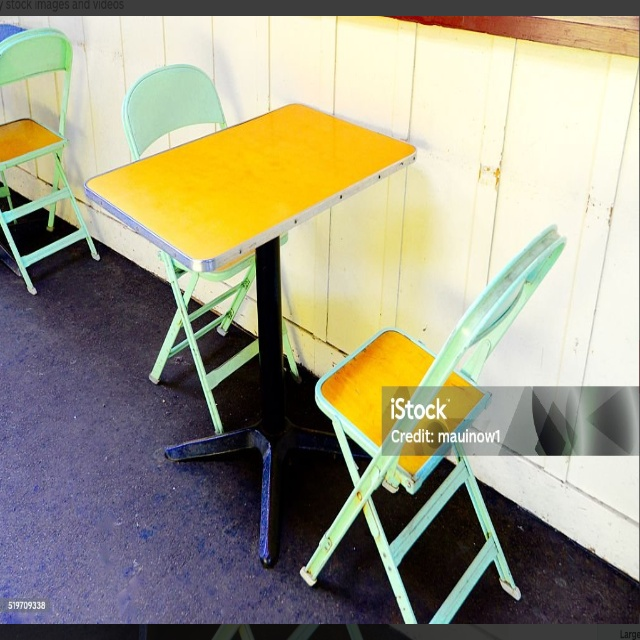obstacle: (82, 99, 412, 566), (293, 221, 566, 620), (1, 26, 104, 293)
